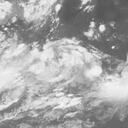cyclone: (31, 38, 101, 90)
